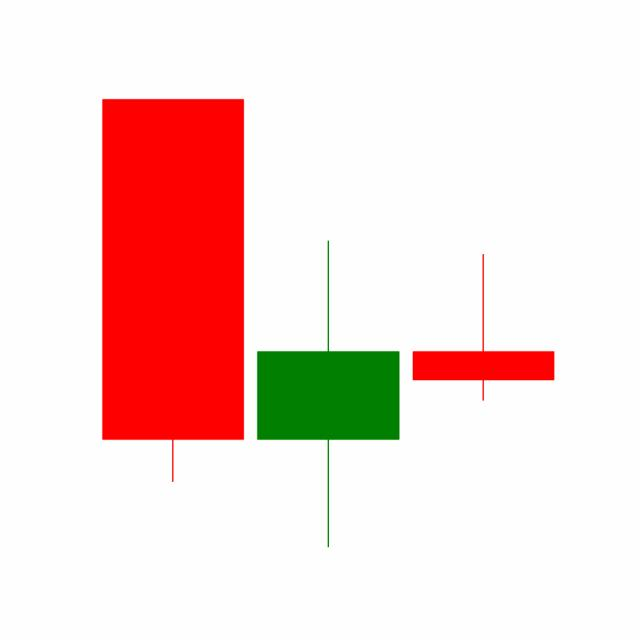Spinning Top: (249, 237, 406, 551)
